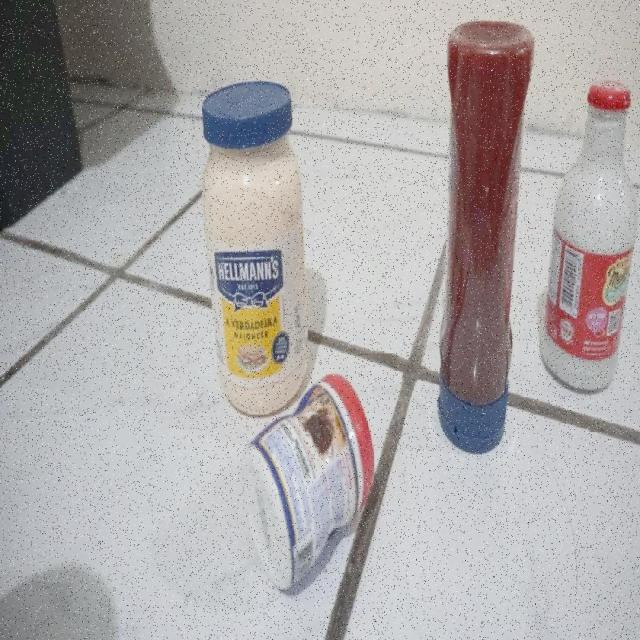CoconutMilk: (546, 73, 640, 396)
Ketchup: (441, 16, 534, 460)
Mayonnaise: (200, 79, 309, 403)
Yeast: (238, 403, 381, 598)
